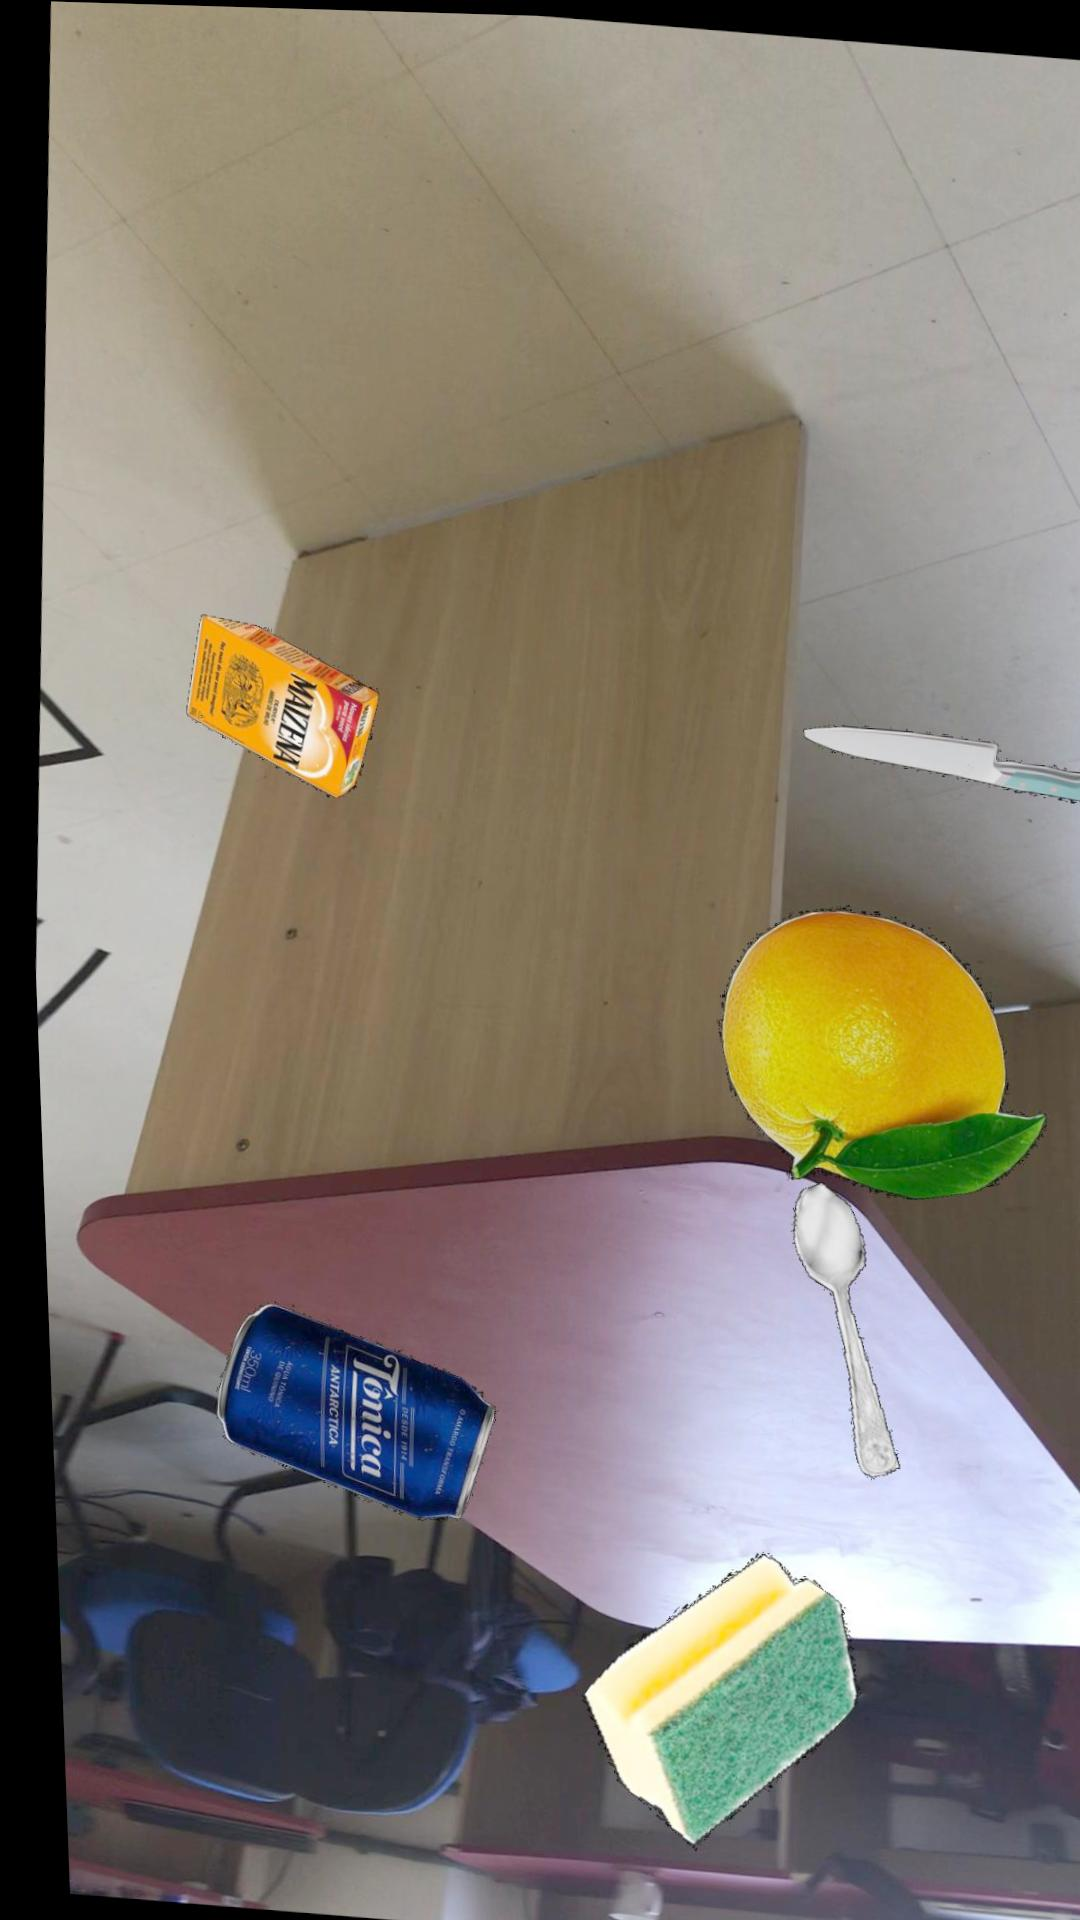knife: (795, 720, 1080, 796)
orange: (707, 903, 1035, 1195)
sponge: (566, 1549, 843, 1845)
spoon: (779, 1178, 886, 1473)
tonic: (202, 1302, 481, 1518)
